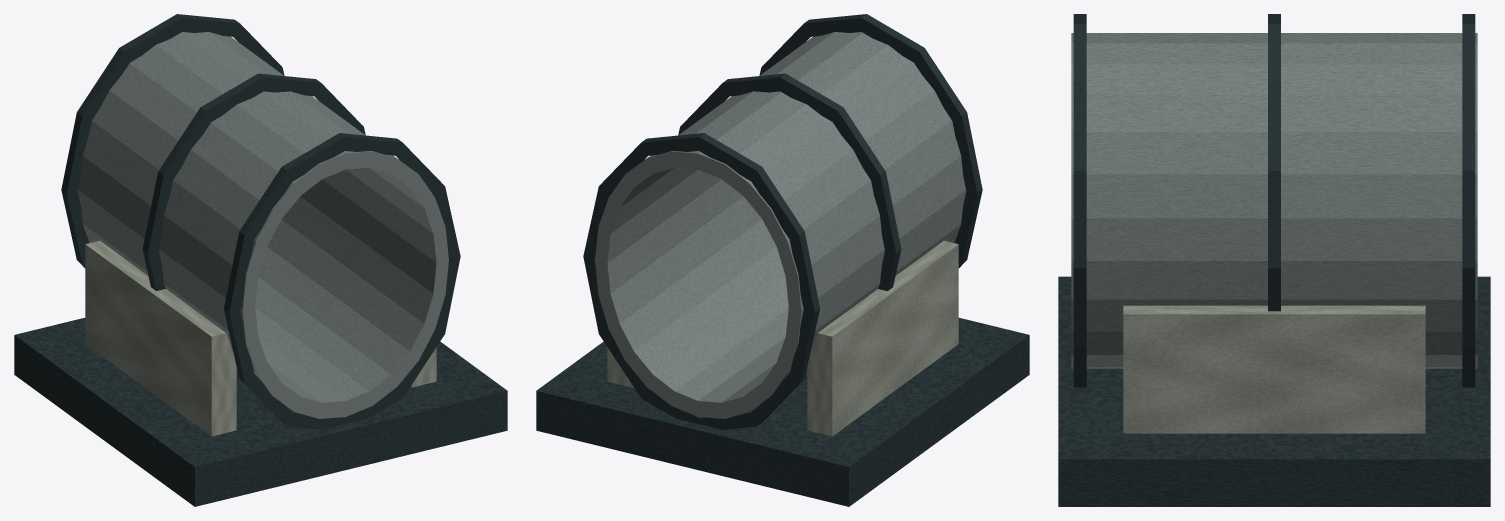
Rendered from flup_outlet_01.fbx.
3 views of the same model, side by side, from view 1: azimuth 30°, elevation 25°; view 2: azimuth 150°, elevation 25°; view 3: azimuth 270°, elevation 25° (orthographic). The views are drawn at different scales.
Visible parts, largest first — view 1: flup_outlet_01_LOD0; view 2: flup_outlet_01_LOD0; view 3: flup_outlet_01_LOD0.
Boxes of the visible parts, x1,y1,x2,y2 form: flup_outlet_01_LOD0: (14,14,507,506); flup_outlet_01_LOD0: (536,14,1029,506); flup_outlet_01_LOD0: (1058,14,1490,506).
Size of what is drawn, in the model's own units: 1 by 1 by 1.
